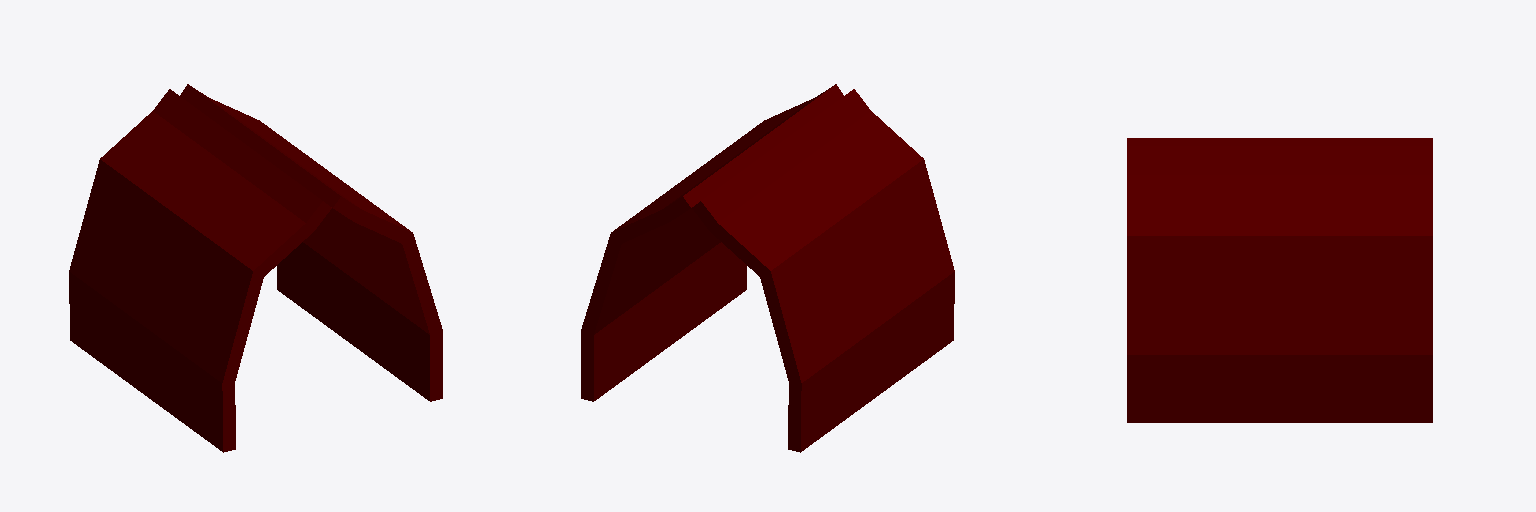
File: muren.obj
3 views of the same model, side by side, from view 1: azimuth 30°, elevation 25°; view 2: azimuth 150°, elevation 25°; view 3: azimuth 270°, elevation 25° (orthographic).
Visible parts, largest first — view 1: pasted__pCube1 group; view 2: pasted__pCube1 group; view 3: pasted__pCube1 group.
Boxes of the visible parts, <box> form: pasted__pCube1 group: <box>69,84,442,452</box>; pasted__pCube1 group: <box>581,84,954,452</box>; pasted__pCube1 group: <box>1127,138,1432,422</box>.
Bounding box in the file's own units: 3.46 × 3.41 × 4.17.